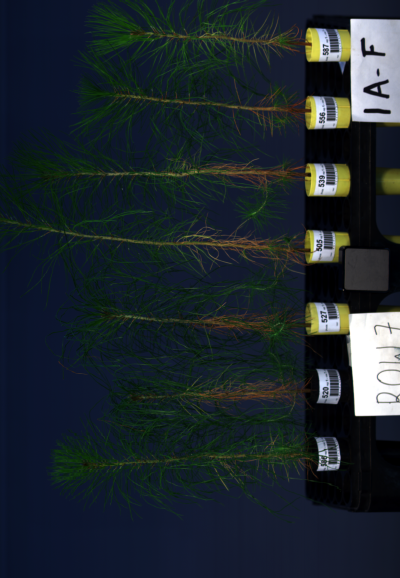tube: (303, 27, 349, 62), (304, 436, 350, 471), (303, 368, 349, 403), (303, 300, 349, 335), (303, 228, 349, 263), (305, 161, 351, 196), (303, 93, 349, 128)
